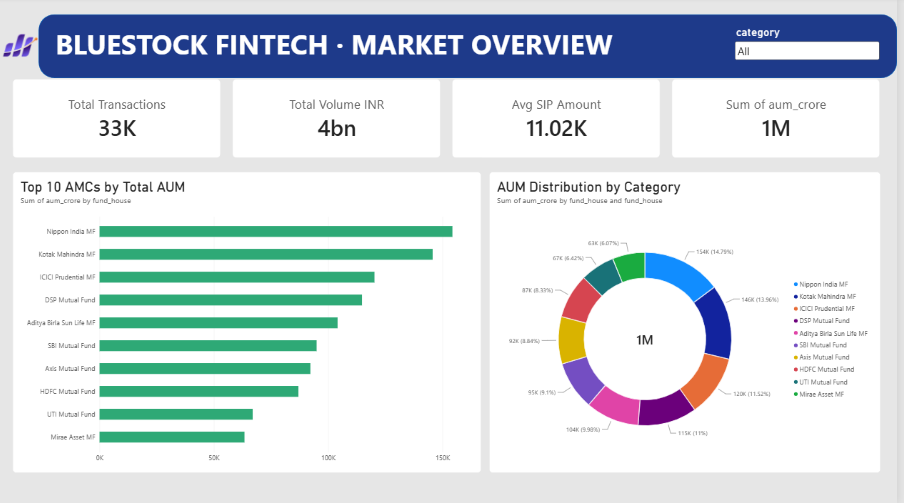

The dashboard page shown, as its layout file describes it:
{"tool":"powerbi","page":{"name":"Page 1","canvas":[1920,1080],"ordinal":0},"visuals":[{"type":"shape","box":[87.3,36.2,1832.4,136.2],"z":0},{"type":"textbox","box":[124.3,59.5,1443.2,113.5],"z":1000},{"type":"clusteredBarChart","title":"Top 10 AMCs by Total AUM","fields":{"Category":["dim_fund.fund_house"],"Y":["Sum(fact_performance.aum_crore)"]},"box":[32.5,372.5,1000,642.5],"z":2000},{"type":"cardVisual","fields":{"Data":["_Measures (2).Total Transactions","_Measures (2).Total Volume INR","_Measures (2).Avg SIP Amount","Sum(fact_performance.aum_crore)"]},"box":[32.3,173.8,1852,168.8],"z":3000},{"type":"donutChart","title":"AUM Distribution by Category","fields":{"Category":["dim_fund.fund_house","dim_fund.category"],"Series":["fact_performance.fund_house"],"Y":["Sum(fact_performance.aum_crore)"]},"box":[1050,372.5,835,642.5],"z":4000},{"type":"slicer","fields":{"Values":["dim_fund.category"]},"box":[1567.6,59.5,318.9,83.8],"z":5000},{"type":"image","box":[0,57.5,93.6,89.4],"z":5001}]}

Visuals, with their boxes in screenshot pixels (x1, y1, x2, y2), scaled from the page's 1920x1080 canvas onto the 904x503 screenshot:
shape: 41 17 903 80
textbox: 59 28 738 81
"Top 10 AMCs by Total AUM" clusteredBarChart: 15 173 486 473
cardVisual - _Measures (2).Total Transactions x _Measures (2).Total Volume INR: 15 81 887 160
"AUM Distribution by Category" donutChart: 494 173 888 473
slicer - dim_fund.category: 738 28 888 67
image: 0 27 44 68
